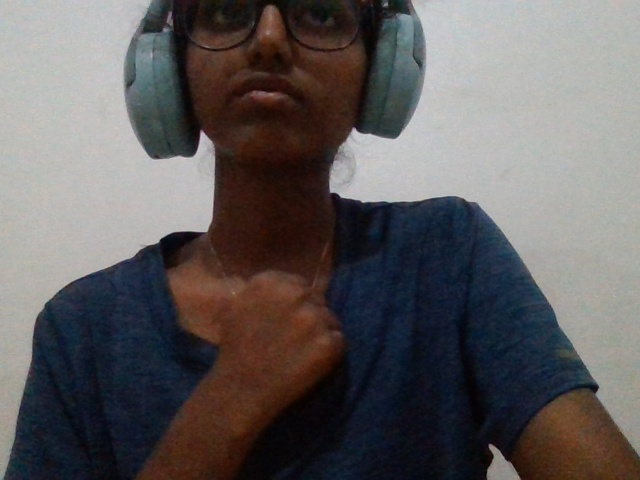Sorry: (179, 254, 372, 457)
